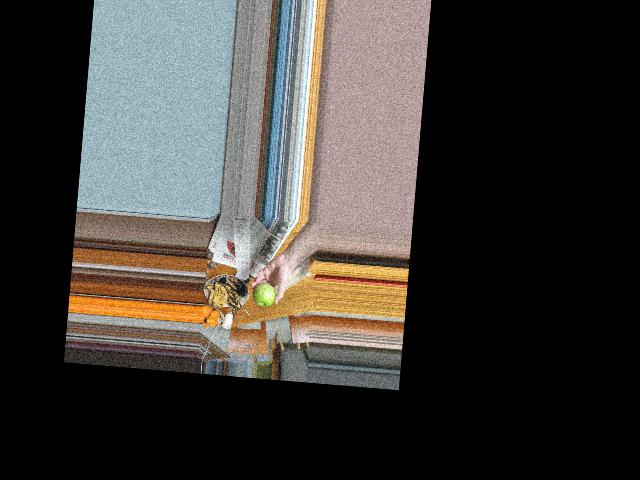apple: (251, 283, 276, 308)
